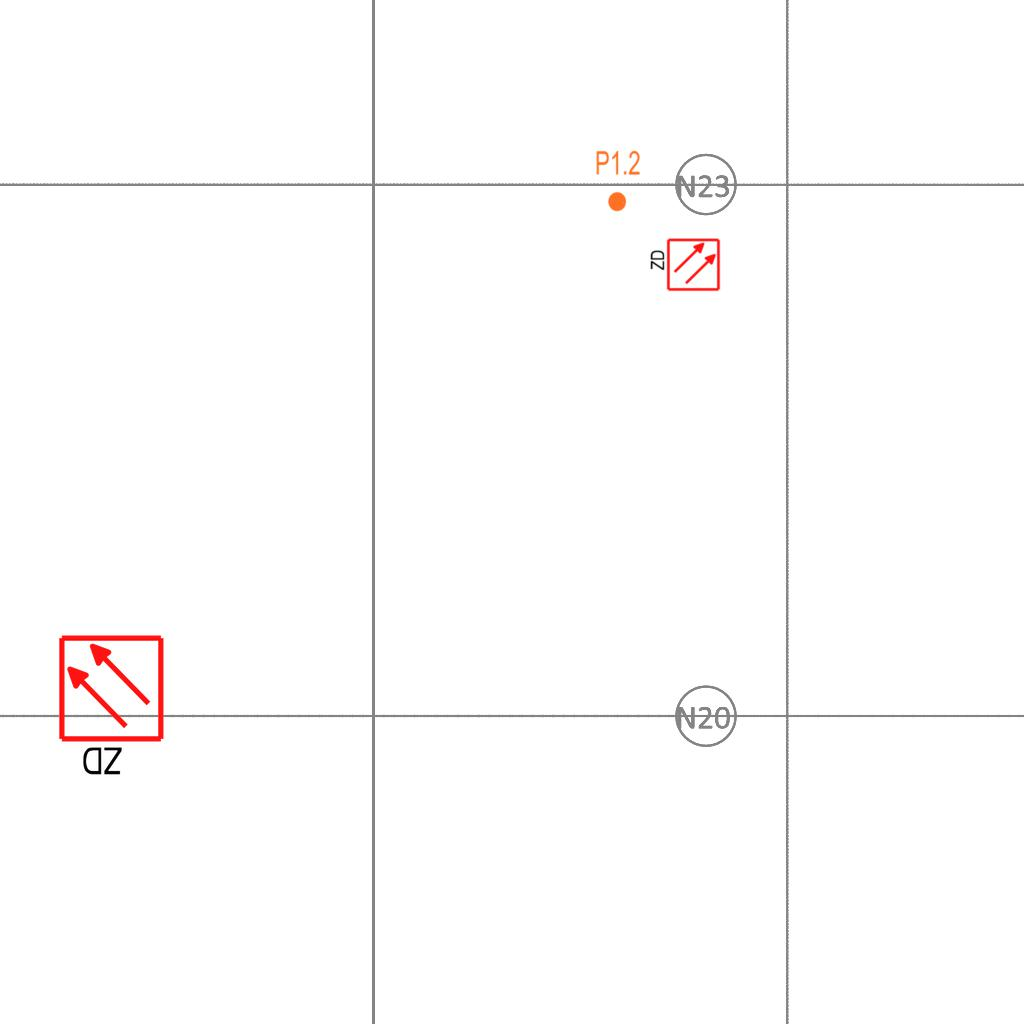Downlight_LED_Einbauleuchten_Flur: (595, 149, 641, 213)
ZD_Melder_in_Zwischendecke_mit_Revisionsoeffnung_mind_40_x_40_cm: (56, 633, 170, 782), (647, 237, 721, 294)
